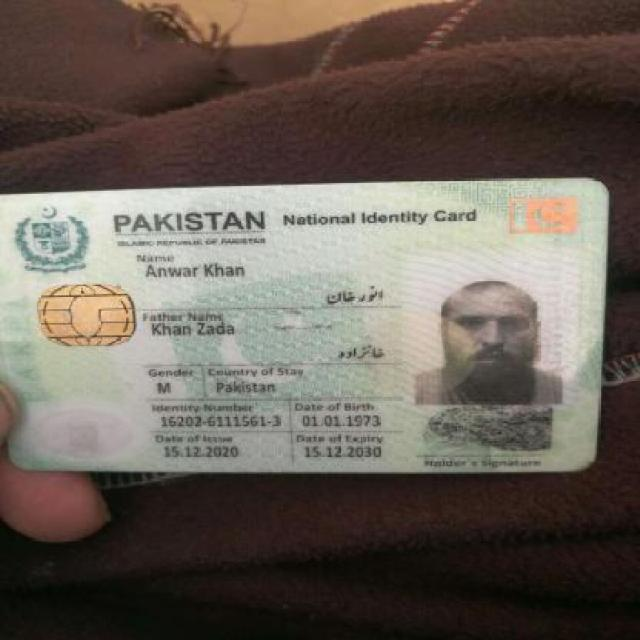Front: (5, 182, 612, 476)
